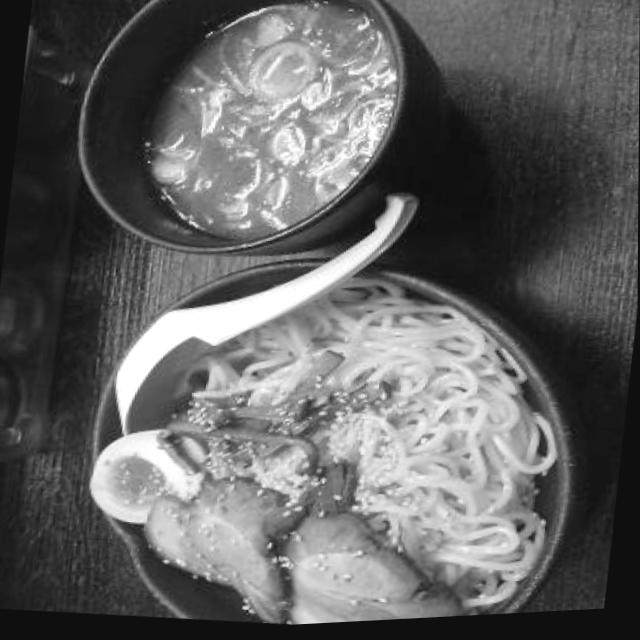面条主食: (76, 0, 613, 637)
